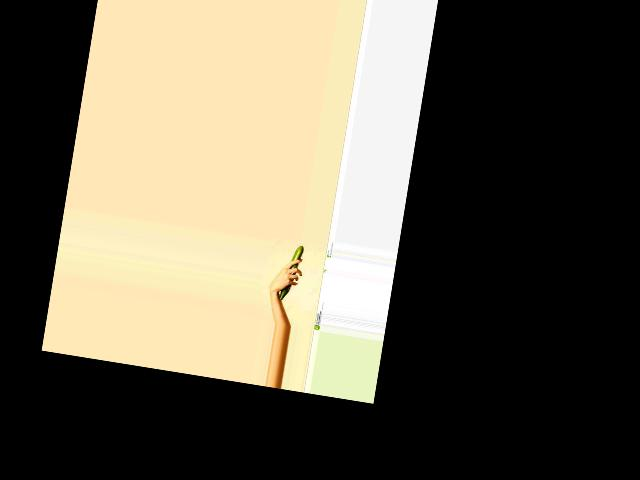cucumber: (279, 243, 304, 303)
